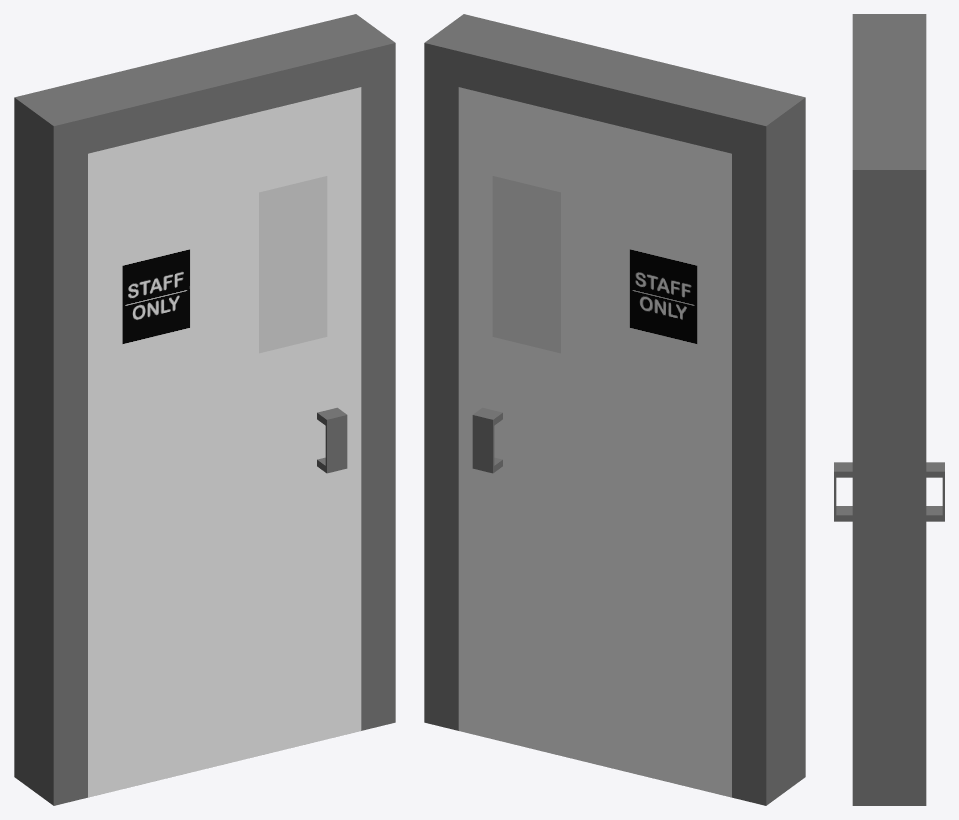
File: Door (Workers Only).fbx
3 renders of one model, left to right at view 1: azimuth 30°, elevation 25°; view 2: azimuth 150°, elevation 25°; view 3: azimuth 270°, elevation 25°, orthographic. The views are drawn at different scales.
Parts seen in each view (by area): view 1: Door, Frame, Glass, Handle; view 2: Door, Frame, Glass, Handle; view 3: Frame, Handle.
Part boxes in pixels (bbox=[...]): Door: bbox=[88, 87, 361, 797]; Frame: bbox=[14, 14, 395, 805]; Glass: bbox=[259, 176, 327, 353]; Handle: bbox=[317, 407, 347, 473]; Door: bbox=[458, 87, 731, 797]; Frame: bbox=[424, 14, 805, 805]; Glass: bbox=[492, 176, 560, 353]; Handle: bbox=[472, 407, 502, 473]; Frame: bbox=[852, 14, 926, 805]; Handle: bbox=[834, 462, 944, 521].
Bounding box in the file's own units: 500 × 950 × 150.
